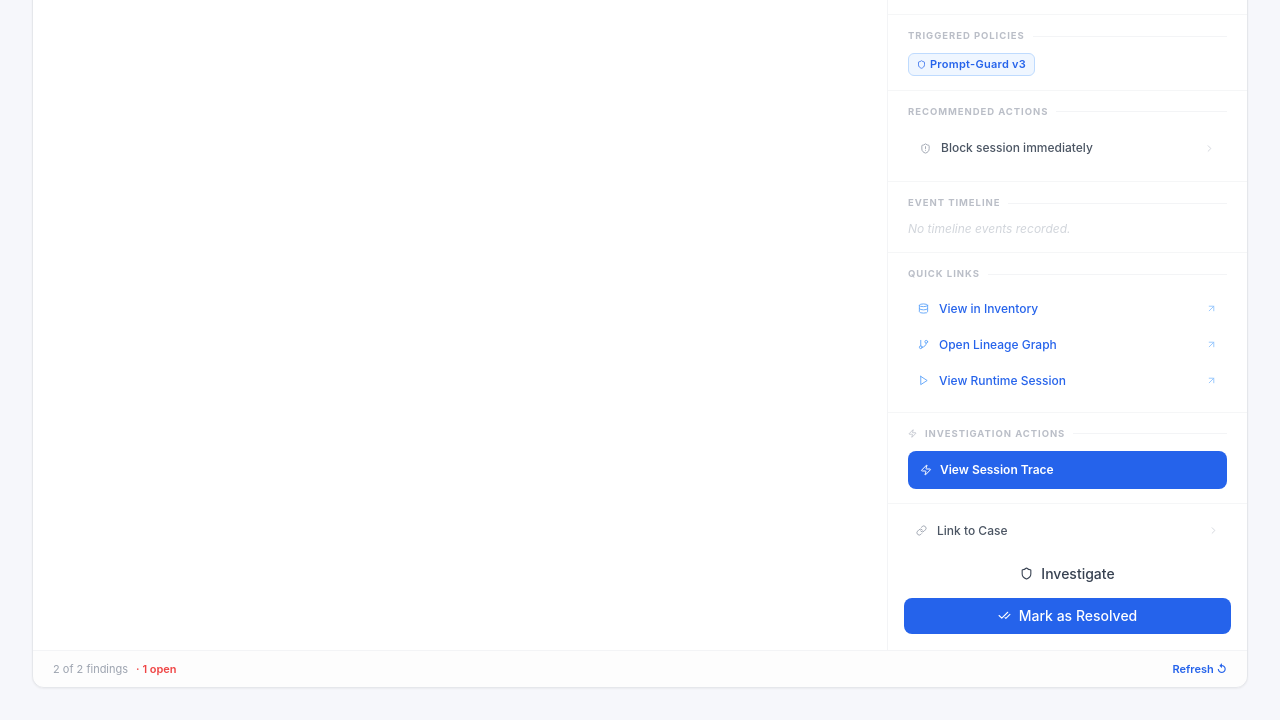
it: Status update › shows error message when markStatus throws
This screenshot has width=1280, height=720.
(page scrolled)
Click the button "Mark as Resolved": click(1068, 616) [904,598,1231,634]
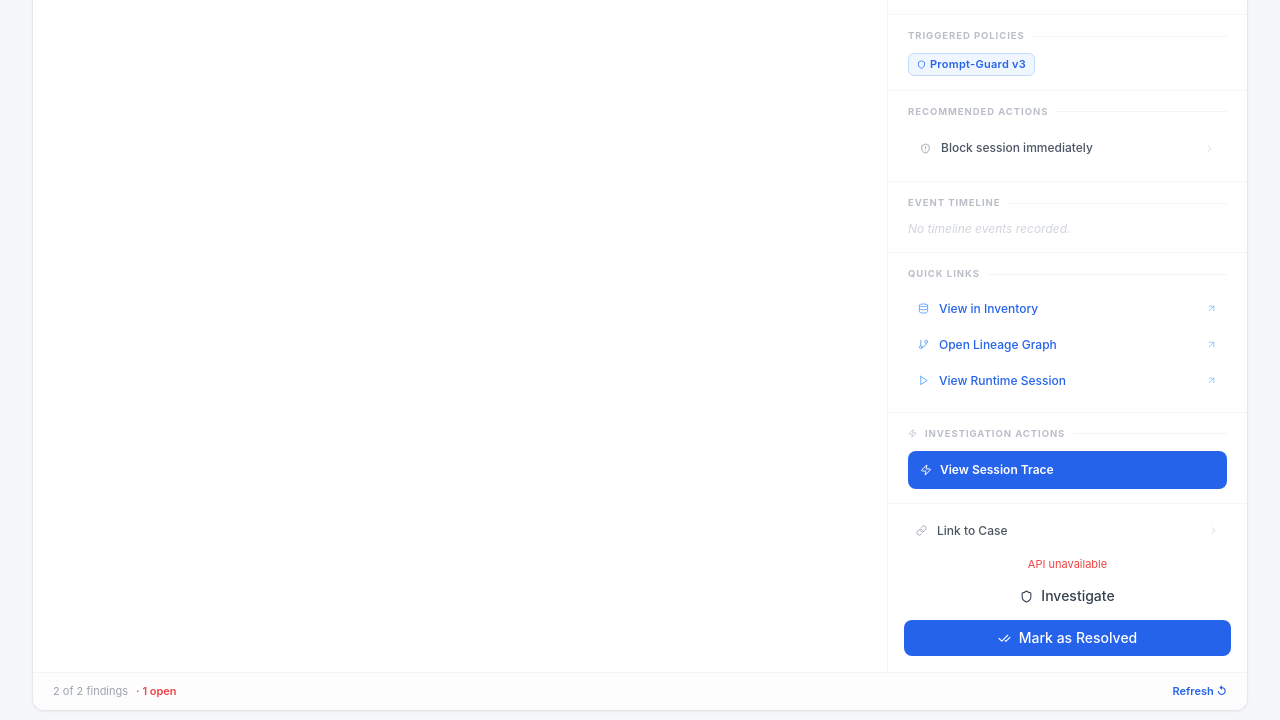
expect the text "API unavailable" is shown: met, box [1028,557,1107,571]
